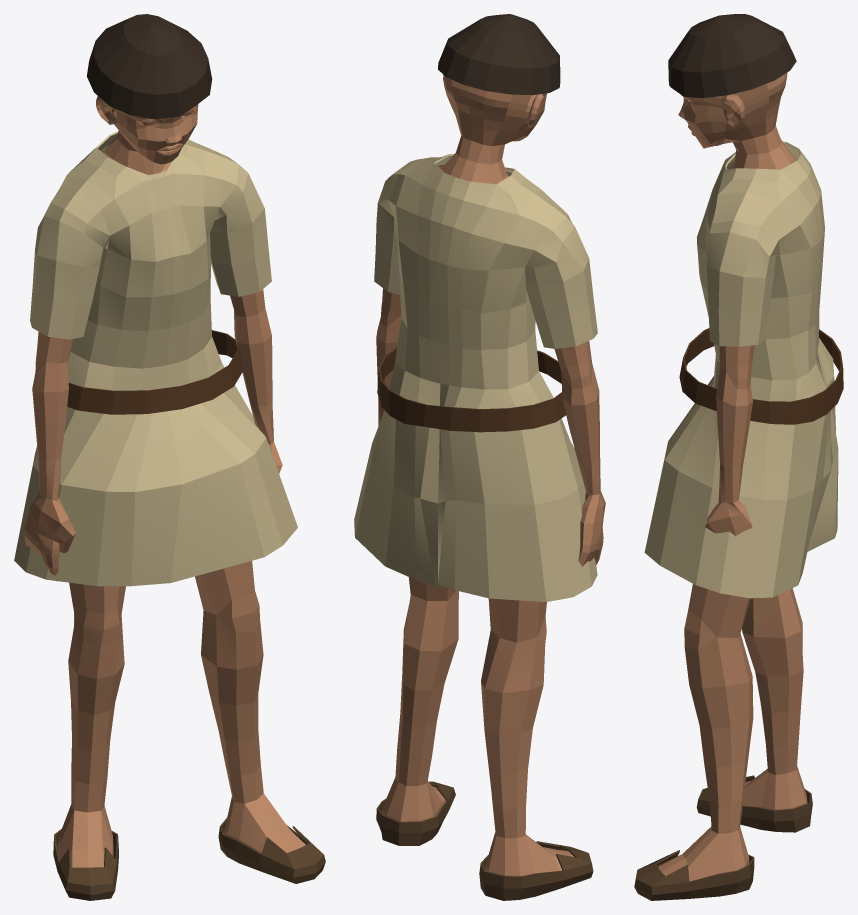
Rendered from citizen-idle-0.glb.
3 views of the same model, side by side, from view 1: azimuth 30°, elevation 25°; view 2: azimuth 150°, elevation 25°; view 3: azimuth 270°, elevation 25° (orthographic). The views are drawn at different scales.
Visible parts, largest first — view 1: Ambient_RomanTunic, Ambient_CharacterBase, Ambient_HairCap, Ambient_RomanSandals, Ambient_LeatherBelt; view 2: Ambient_RomanTunic, Ambient_CharacterBase, Ambient_HairCap, Ambient_LeatherBelt, Ambient_RomanSandals; view 3: Ambient_RomanTunic, Ambient_CharacterBase, Ambient_HairCap, Ambient_RomanSandals, Ambient_LeatherBelt.
Part boxes in pixels (box(x1,y1,x2,y2)): Ambient_RomanTunic: box(14, 131, 297, 586); Ambient_CharacterBase: box(24, 96, 305, 867); Ambient_HairCap: box(87, 14, 212, 119); Ambient_RomanSandals: box(53, 817, 325, 900); Ambient_LeatherBelt: box(67, 330, 243, 414); Ambient_RomanTunic: box(354, 153, 597, 601); Ambient_CharacterBase: box(376, 75, 605, 876); Ambient_HairCap: box(438, 14, 560, 95); Ambient_LeatherBelt: box(377, 347, 566, 432); Ambient_RomanSandals: box(376, 781, 593, 900); Ambient_RomanTunic: box(644, 141, 838, 598); Ambient_CharacterBase: box(658, 73, 807, 881); Ambient_HairCap: box(668, 14, 796, 97); Ambient_RomanSandals: box(634, 775, 812, 900); Ambient_LeatherBelt: box(679, 328, 843, 424).
Bounding box in the file's own units: 0.5537 × 1.82 × 0.4202.
